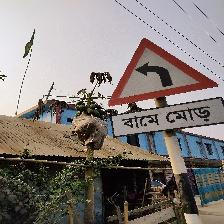Left-Turn: (107, 38, 224, 134)
